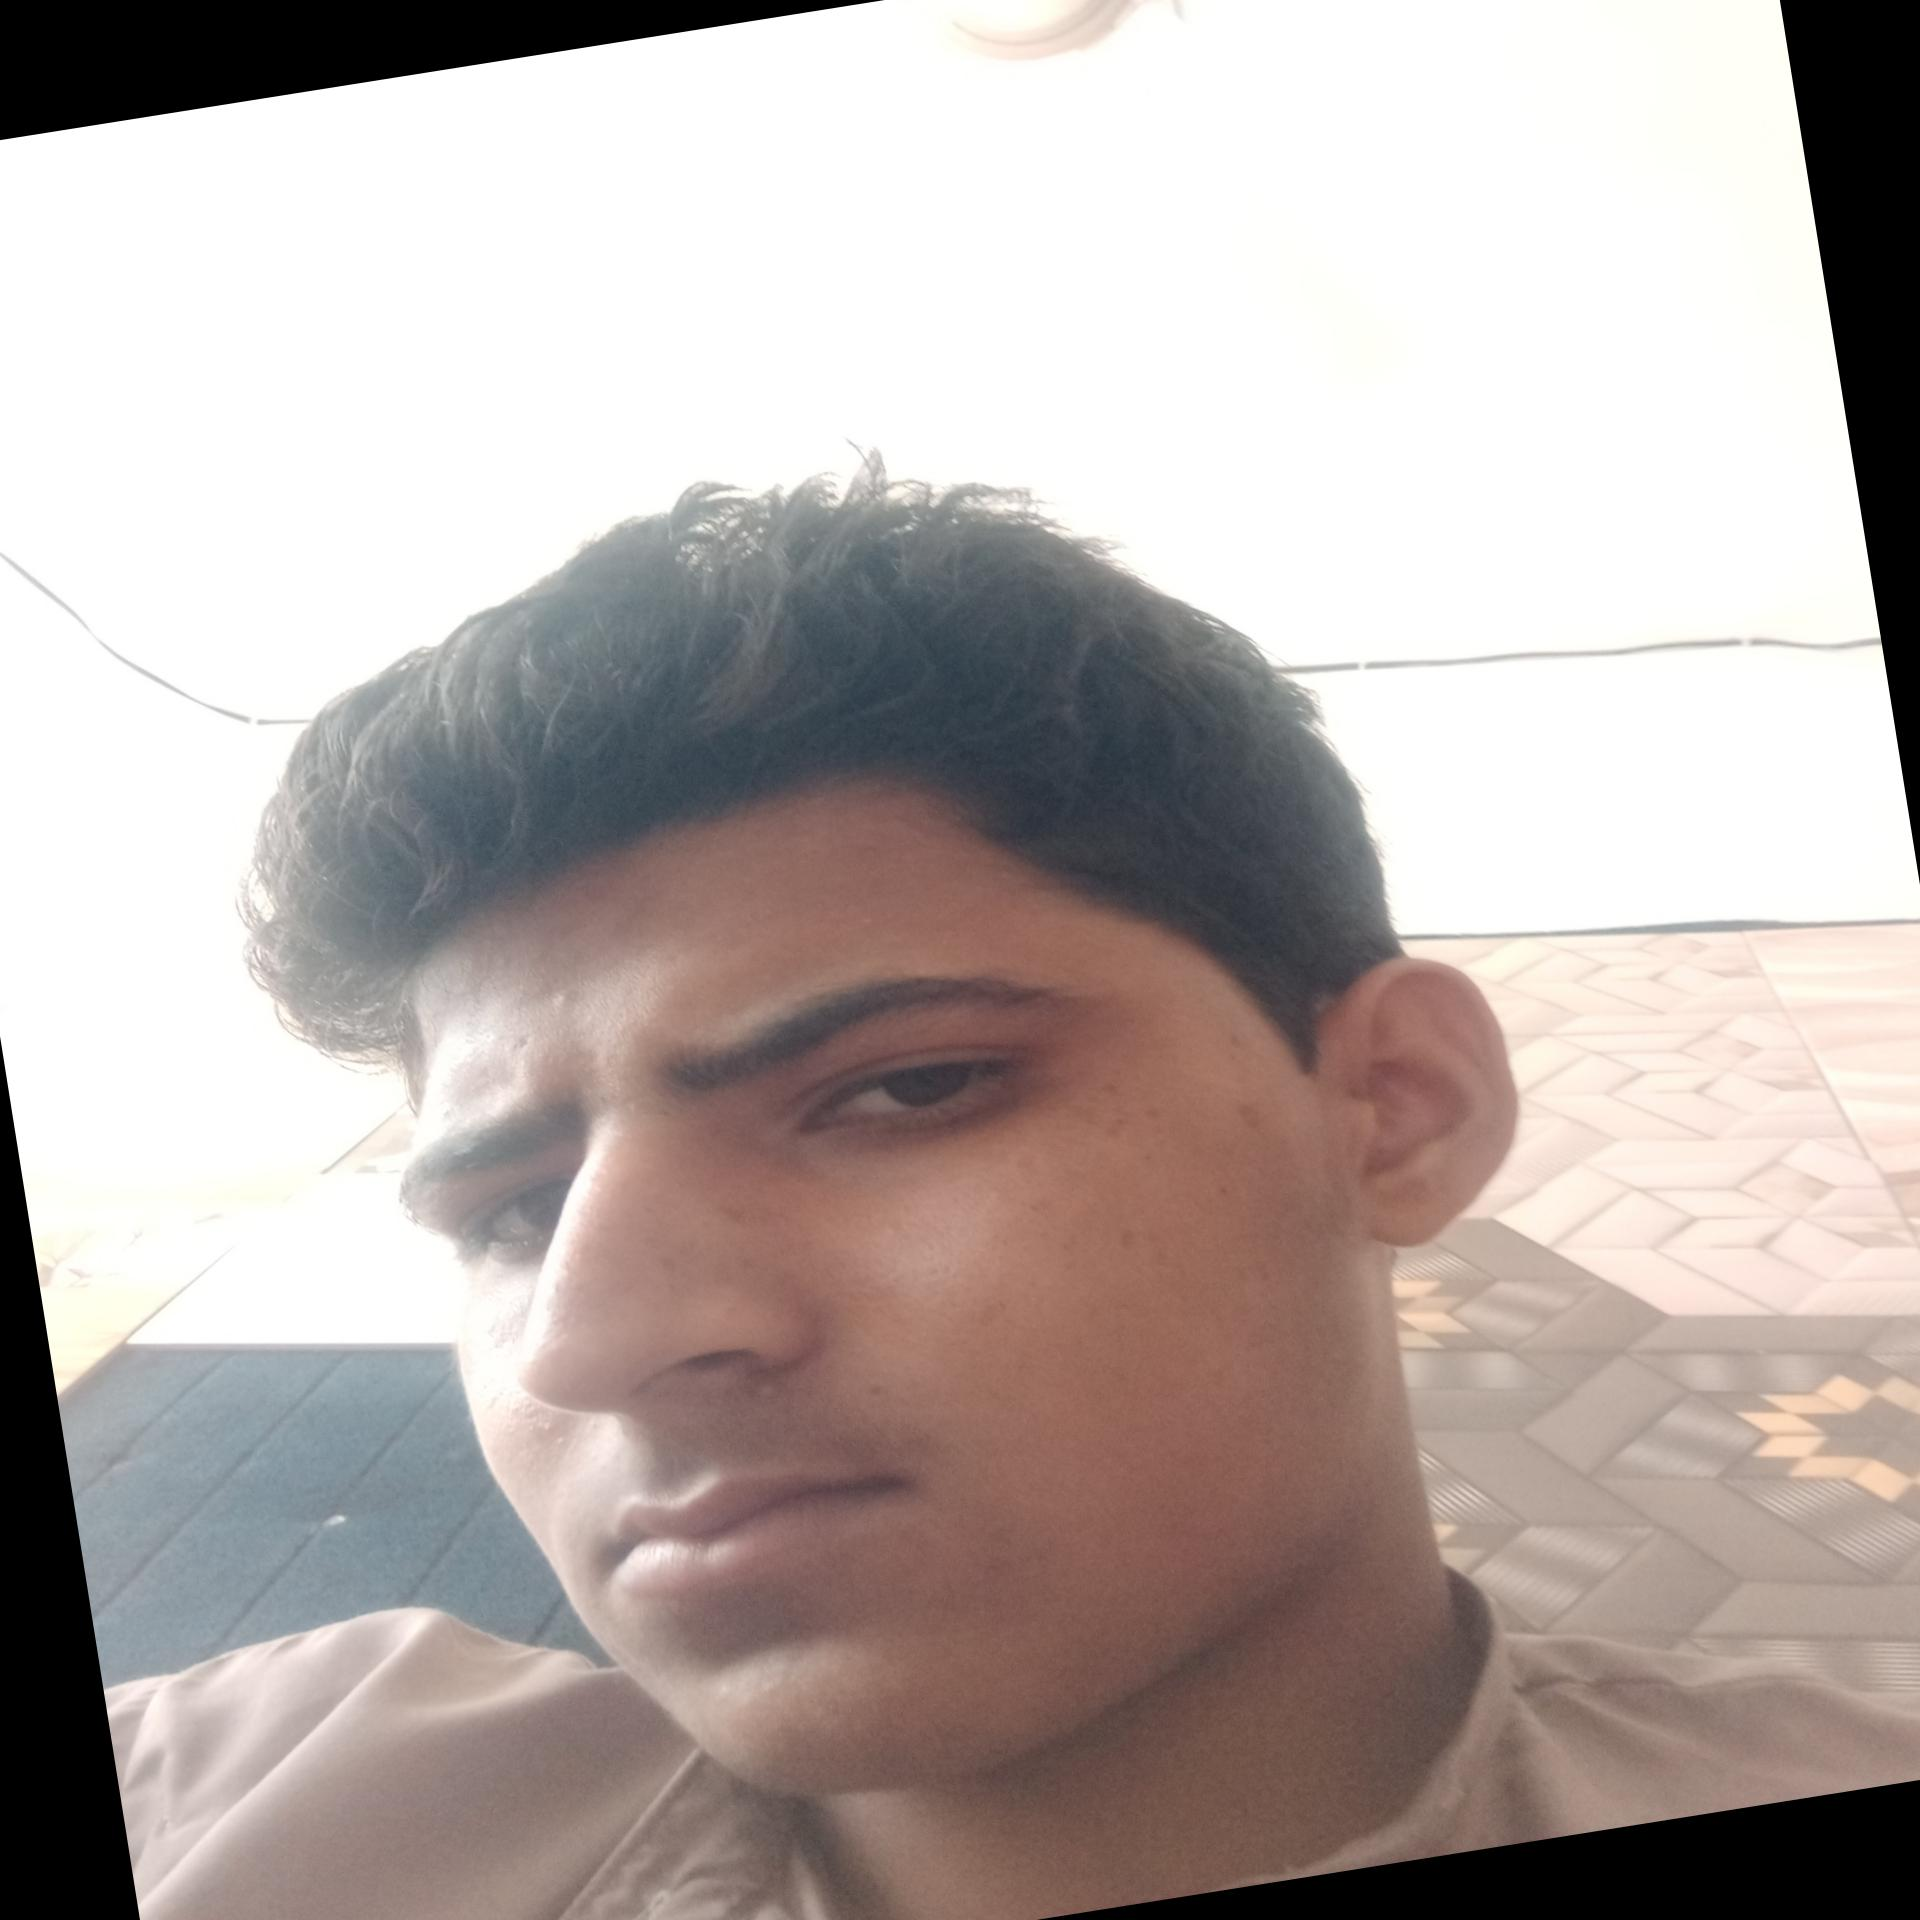Acne: (1090, 1069, 1167, 1145), (1101, 1218, 1171, 1271), (505, 1414, 575, 1463), (1224, 1087, 1287, 1136), (1206, 1023, 1276, 1067), (740, 1371, 795, 1421), (870, 1204, 928, 1245), (972, 1173, 1018, 1211), (422, 1102, 462, 1132)
